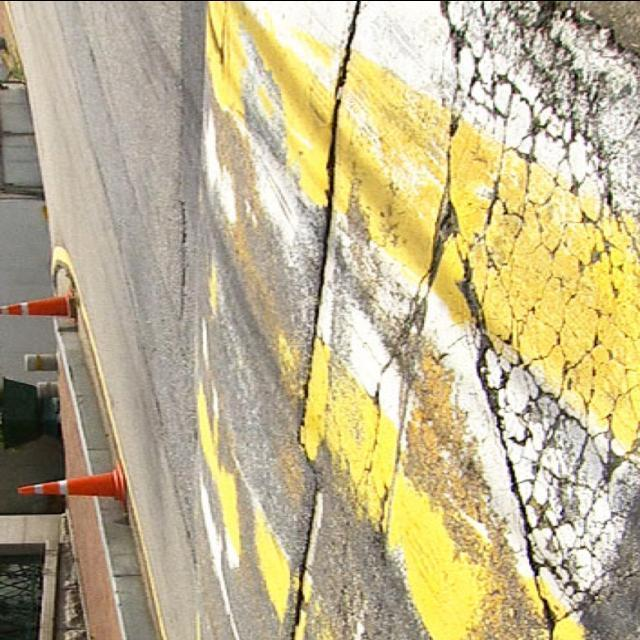speedbreaker: (196, 0, 640, 640)
